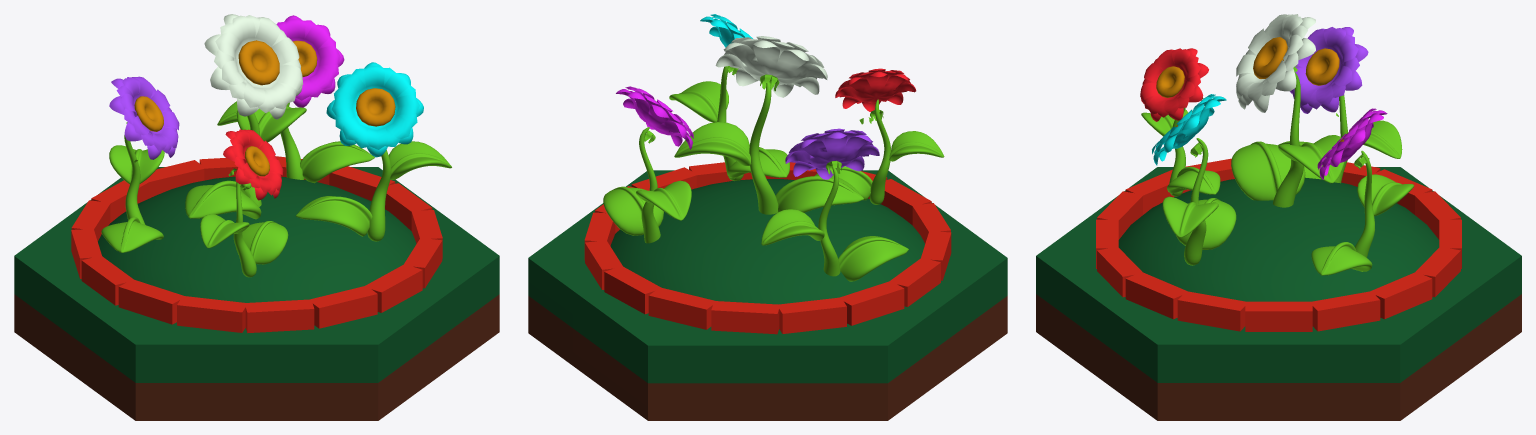
The model's file is SM_Flower_3.FBX.
3 renders of one model, left to right at view 1: azimuth 30°, elevation 25°; view 2: azimuth 150°, elevation 25°; view 3: azimuth 270°, elevation 25°, orthographic.
Parts seen in each view (by area): view 1: SM_Flower_3; view 2: SM_Flower_3; view 3: SM_Flower_3.
Part boxes in pixels (bbox=[...]): SM_Flower_3: bbox=[14, 14, 499, 420]; SM_Flower_3: bbox=[528, 14, 1007, 420]; SM_Flower_3: bbox=[1036, 14, 1521, 420].
Bounding box in the file's own units: 100 × 115 × 81.1.
